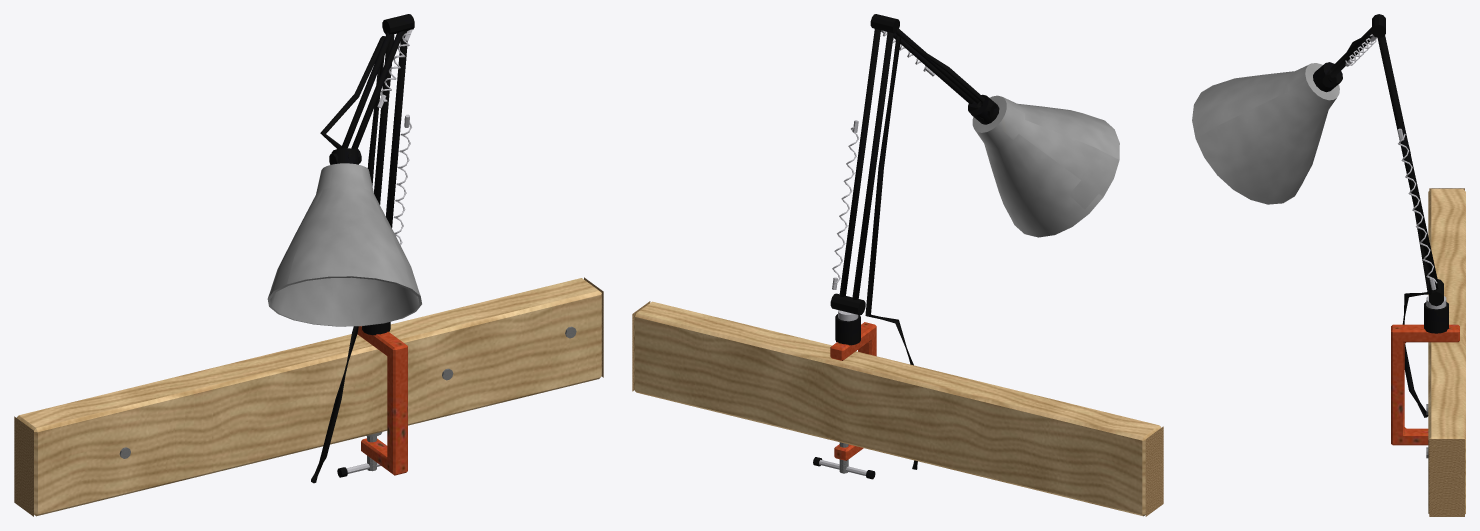
File: task-lamp.glb
3 renders of one model, left to right at view 1: azimuth 30°, elevation 25°; view 2: azimuth 150°, elevation 25°; view 3: azimuth 270°, elevation 25°, orthographic. The views are drawn at different scales.
Visible parts, largest first — view 1: task_lamp; view 2: task_lamp; view 3: task_lamp.
Boxes of the visible parts, left/top/right/bottom form: task_lamp: left=14, top=14, right=603, bottom=516; task_lamp: left=632, top=14, right=1163, bottom=516; task_lamp: left=1192, top=14, right=1465, bottom=516.
Bounding box in the file's own units: 0.6012 × 0.485 × 0.2775.
Materials: 2 (1 with a texture image).
